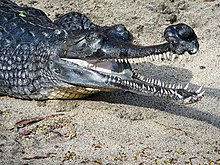Crocodile: (1, 2, 205, 108)
